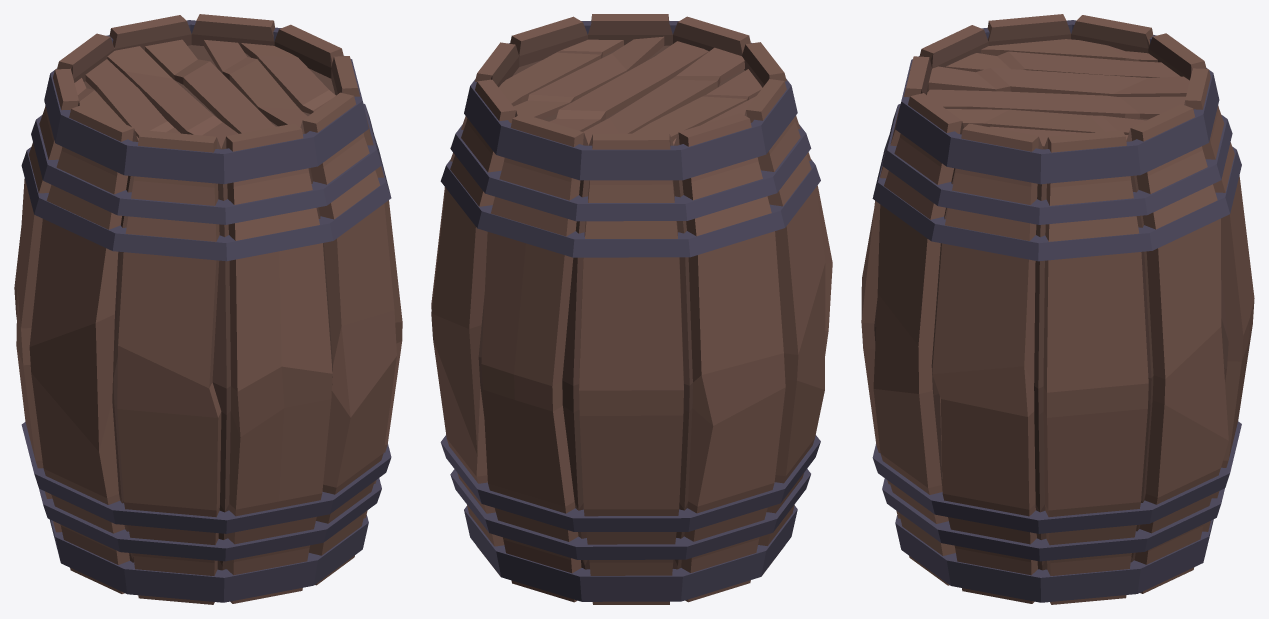
File: barrel.glb
3 views of the same model, side by side, from view 1: azimuth 30°, elevation 25°; view 2: azimuth 150°, elevation 25°; view 3: azimuth 270°, elevation 25° (orthographic).
Visible parts, largest first — view 1: Barrel; view 2: Barrel; view 3: Barrel.
Part boxes in pixels (left/top/right/bottom): Barrel: left=14, top=14, right=402, bottom=604; Barrel: left=431, top=14, right=832, bottom=604; Barrel: left=861, top=14, right=1254, bottom=604.
Size of the model in its own units: 1.04 by 1.35 by 1.03.
